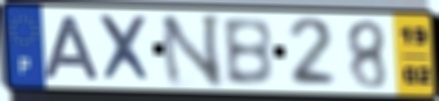2: (285, 15, 340, 91)
8: (344, 18, 390, 91)
A: (40, 13, 104, 82)
B: (219, 15, 277, 88)
N: (157, 12, 225, 89)
X: (94, 13, 157, 85)
